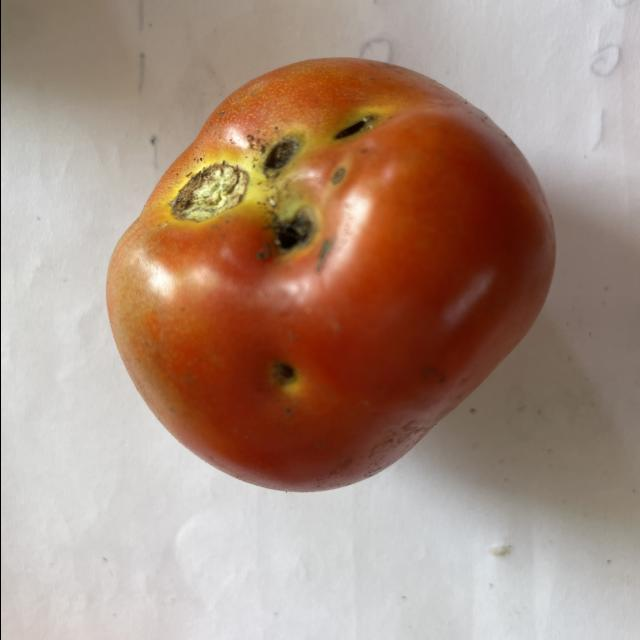fruitworm_bore: (254, 110, 322, 258), (258, 349, 308, 399), (330, 112, 374, 144)
